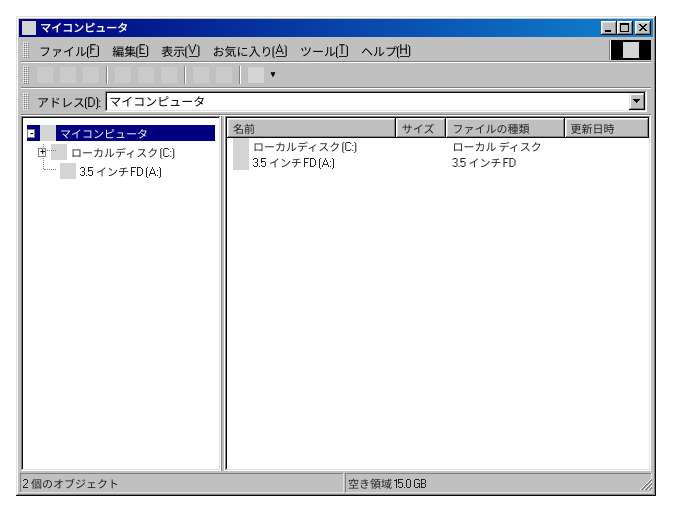
Scenario: FileExplorer › switches view mode via toolbar splitButton
Click the toolbar splitButton
Click the button "▼" at (273, 75), box [267,64,279,86]
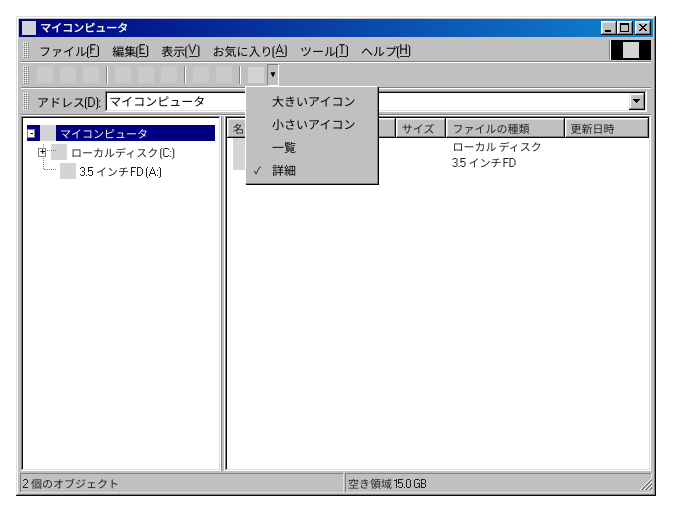
expect the menu is shown: met, box [245,86,378,184]
Click on a view mode
Click the menu item "一覧" at (284, 148), box [272,141,296,154]
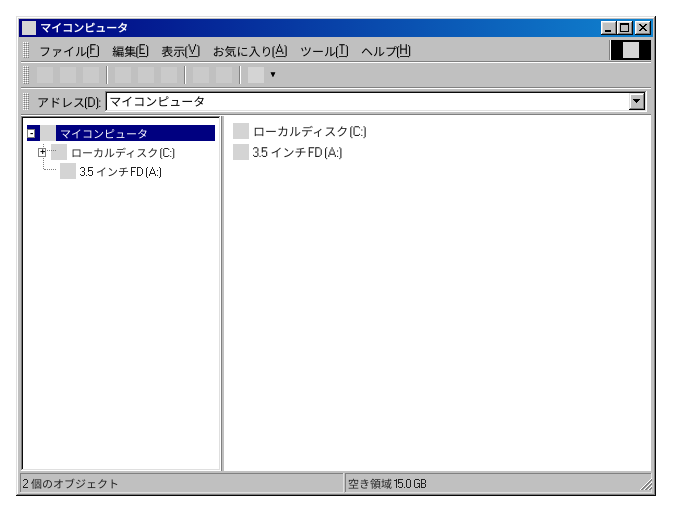
expect the menu is gone: met
